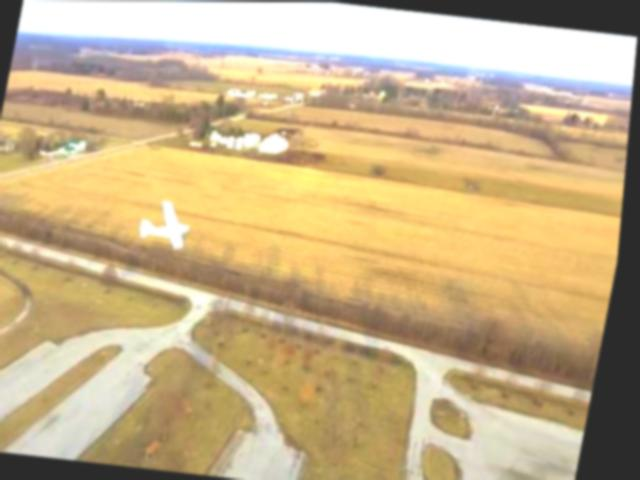uav: (131, 183, 214, 259)
